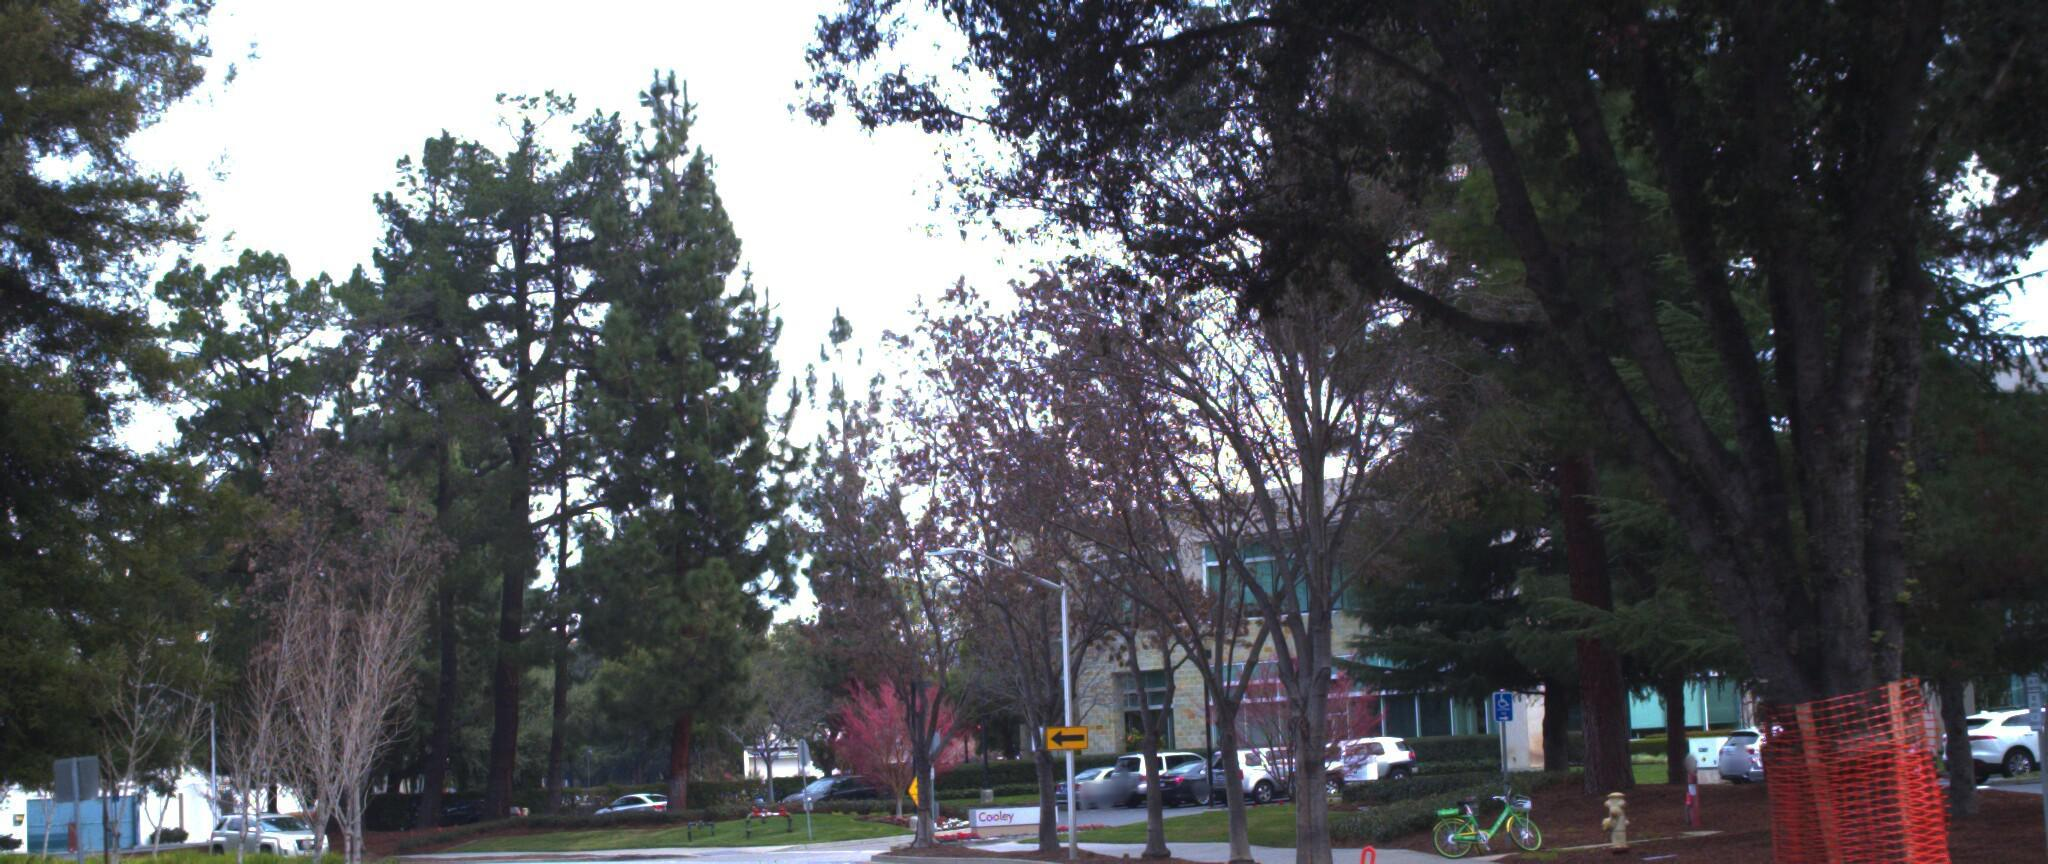bicycle: (1420, 777, 1553, 861)
